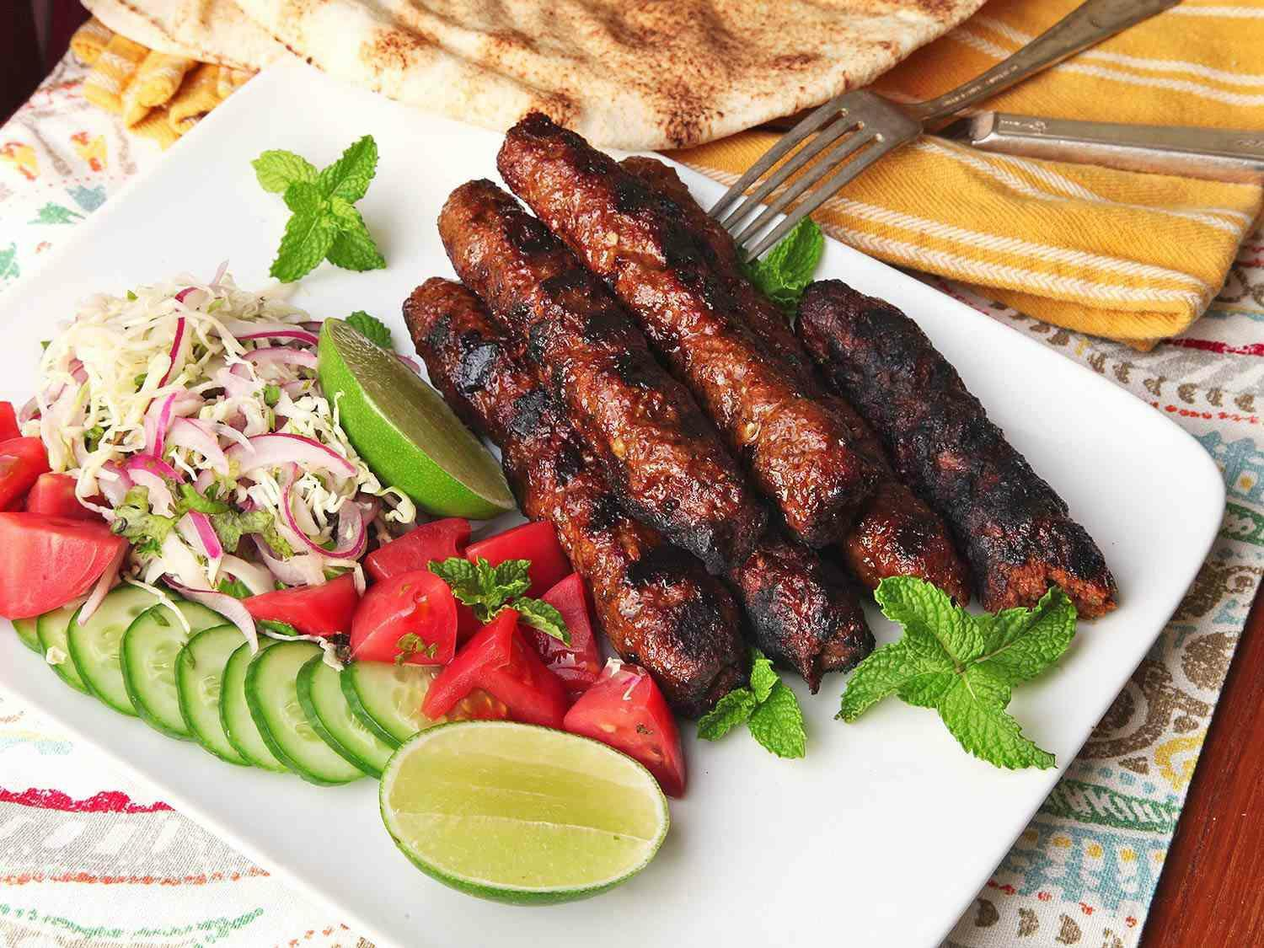Kebab: (603, 156, 976, 618), (498, 108, 878, 552), (401, 276, 755, 719), (434, 180, 771, 574), (797, 279, 1117, 627), (731, 508, 877, 695)
